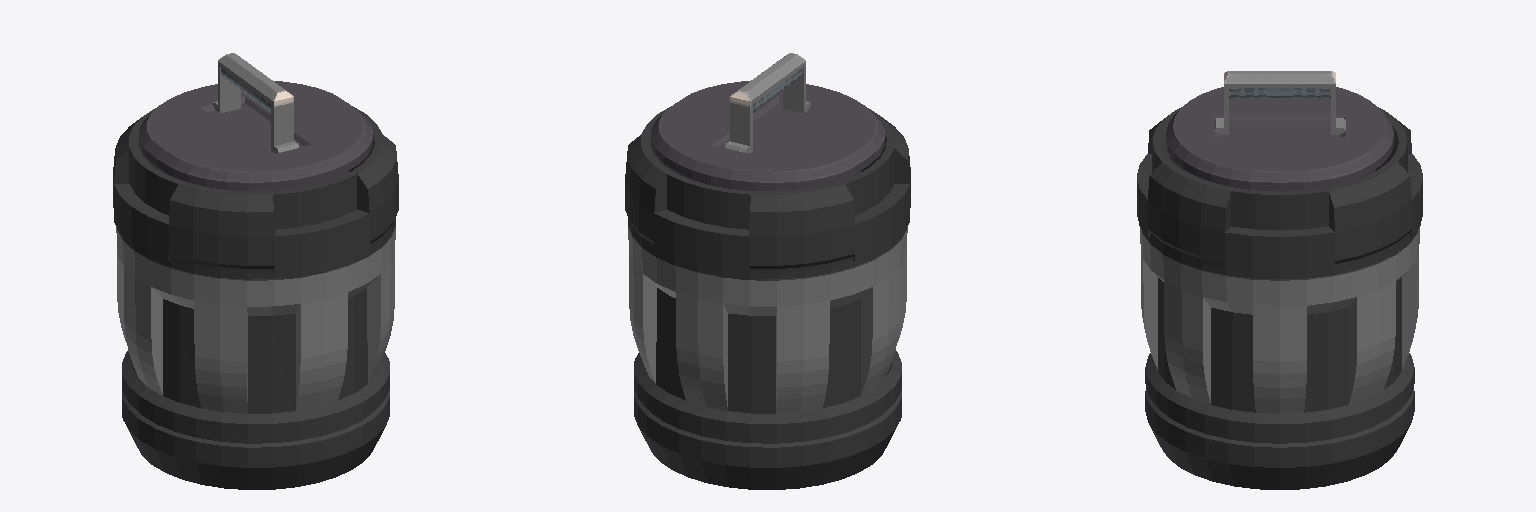
3 views of the same model, side by side, from view 1: azimuth 30°, elevation 25°; view 2: azimuth 150°, elevation 25°; view 3: azimuth 270°, elevation 25° (orthographic).
Visible parts, largest first — view 1: Prop_Barrel2_Closed_Cylinder.005; view 2: Prop_Barrel2_Closed_Cylinder.005; view 3: Prop_Barrel2_Closed_Cylinder.005.
Boxes of the visible parts, x1,y1,x2,y2 form: Prop_Barrel2_Closed_Cylinder.005: [113, 53, 398, 489]; Prop_Barrel2_Closed_Cylinder.005: [625, 53, 910, 489]; Prop_Barrel2_Closed_Cylinder.005: [1137, 71, 1422, 489].
Size of the model in its own units: 0.5422 by 0.7661 by 0.5422.
1 materials, 1 textured.